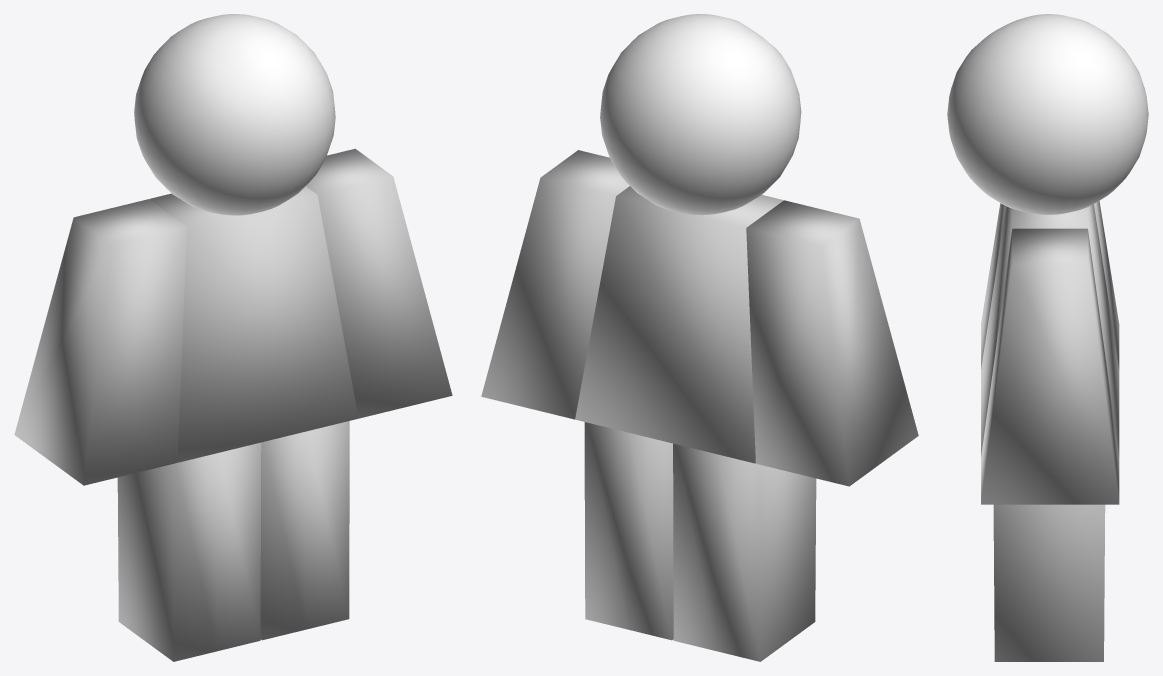
Rendered from CreatopiaBody.glb.
The picture shows the model from 3 angles, left to right: view 1: azimuth 30°, elevation 25°; view 2: azimuth 150°, elevation 25°; view 3: azimuth 270°, elevation 25°; orthographic projection.
Visible parts, largest first — view 1: Torso, LeftHand, Head, LeftLeg, RightHand, RightLeg; view 2: Torso, LeftHand, Head, LeftLeg, RightHand, RightLeg; view 3: Head, RightHand, RightLeg, Torso, LeftHand.
Boxes of the visible parts, box(x1,y1,x2,y2) form: Torso: box(150, 186, 358, 462); LeftHand: box(14, 199, 186, 485); Head: box(134, 14, 335, 215); LeftLeg: box(117, 442, 261, 661); RightHand: box(306, 148, 452, 418); RightLeg: box(260, 421, 349, 640); Torso: box(575, 186, 783, 463); LeftHand: box(746, 200, 918, 486); Head: box(600, 14, 801, 215); LeftLeg: box(673, 443, 816, 661); RightHand: box(481, 150, 629, 419); RightLeg: box(584, 422, 673, 640); Head: box(947, 14, 1148, 214); RightHand: box(981, 228, 1119, 504); RightLeg: box(993, 504, 1105, 661); Torso: box(981, 204, 1119, 456); LeftHand: box(981, 201, 1119, 369).
Size of the model in its own units: 3.72 by 5.76 by 1.77.
1 material, 1 textured.
